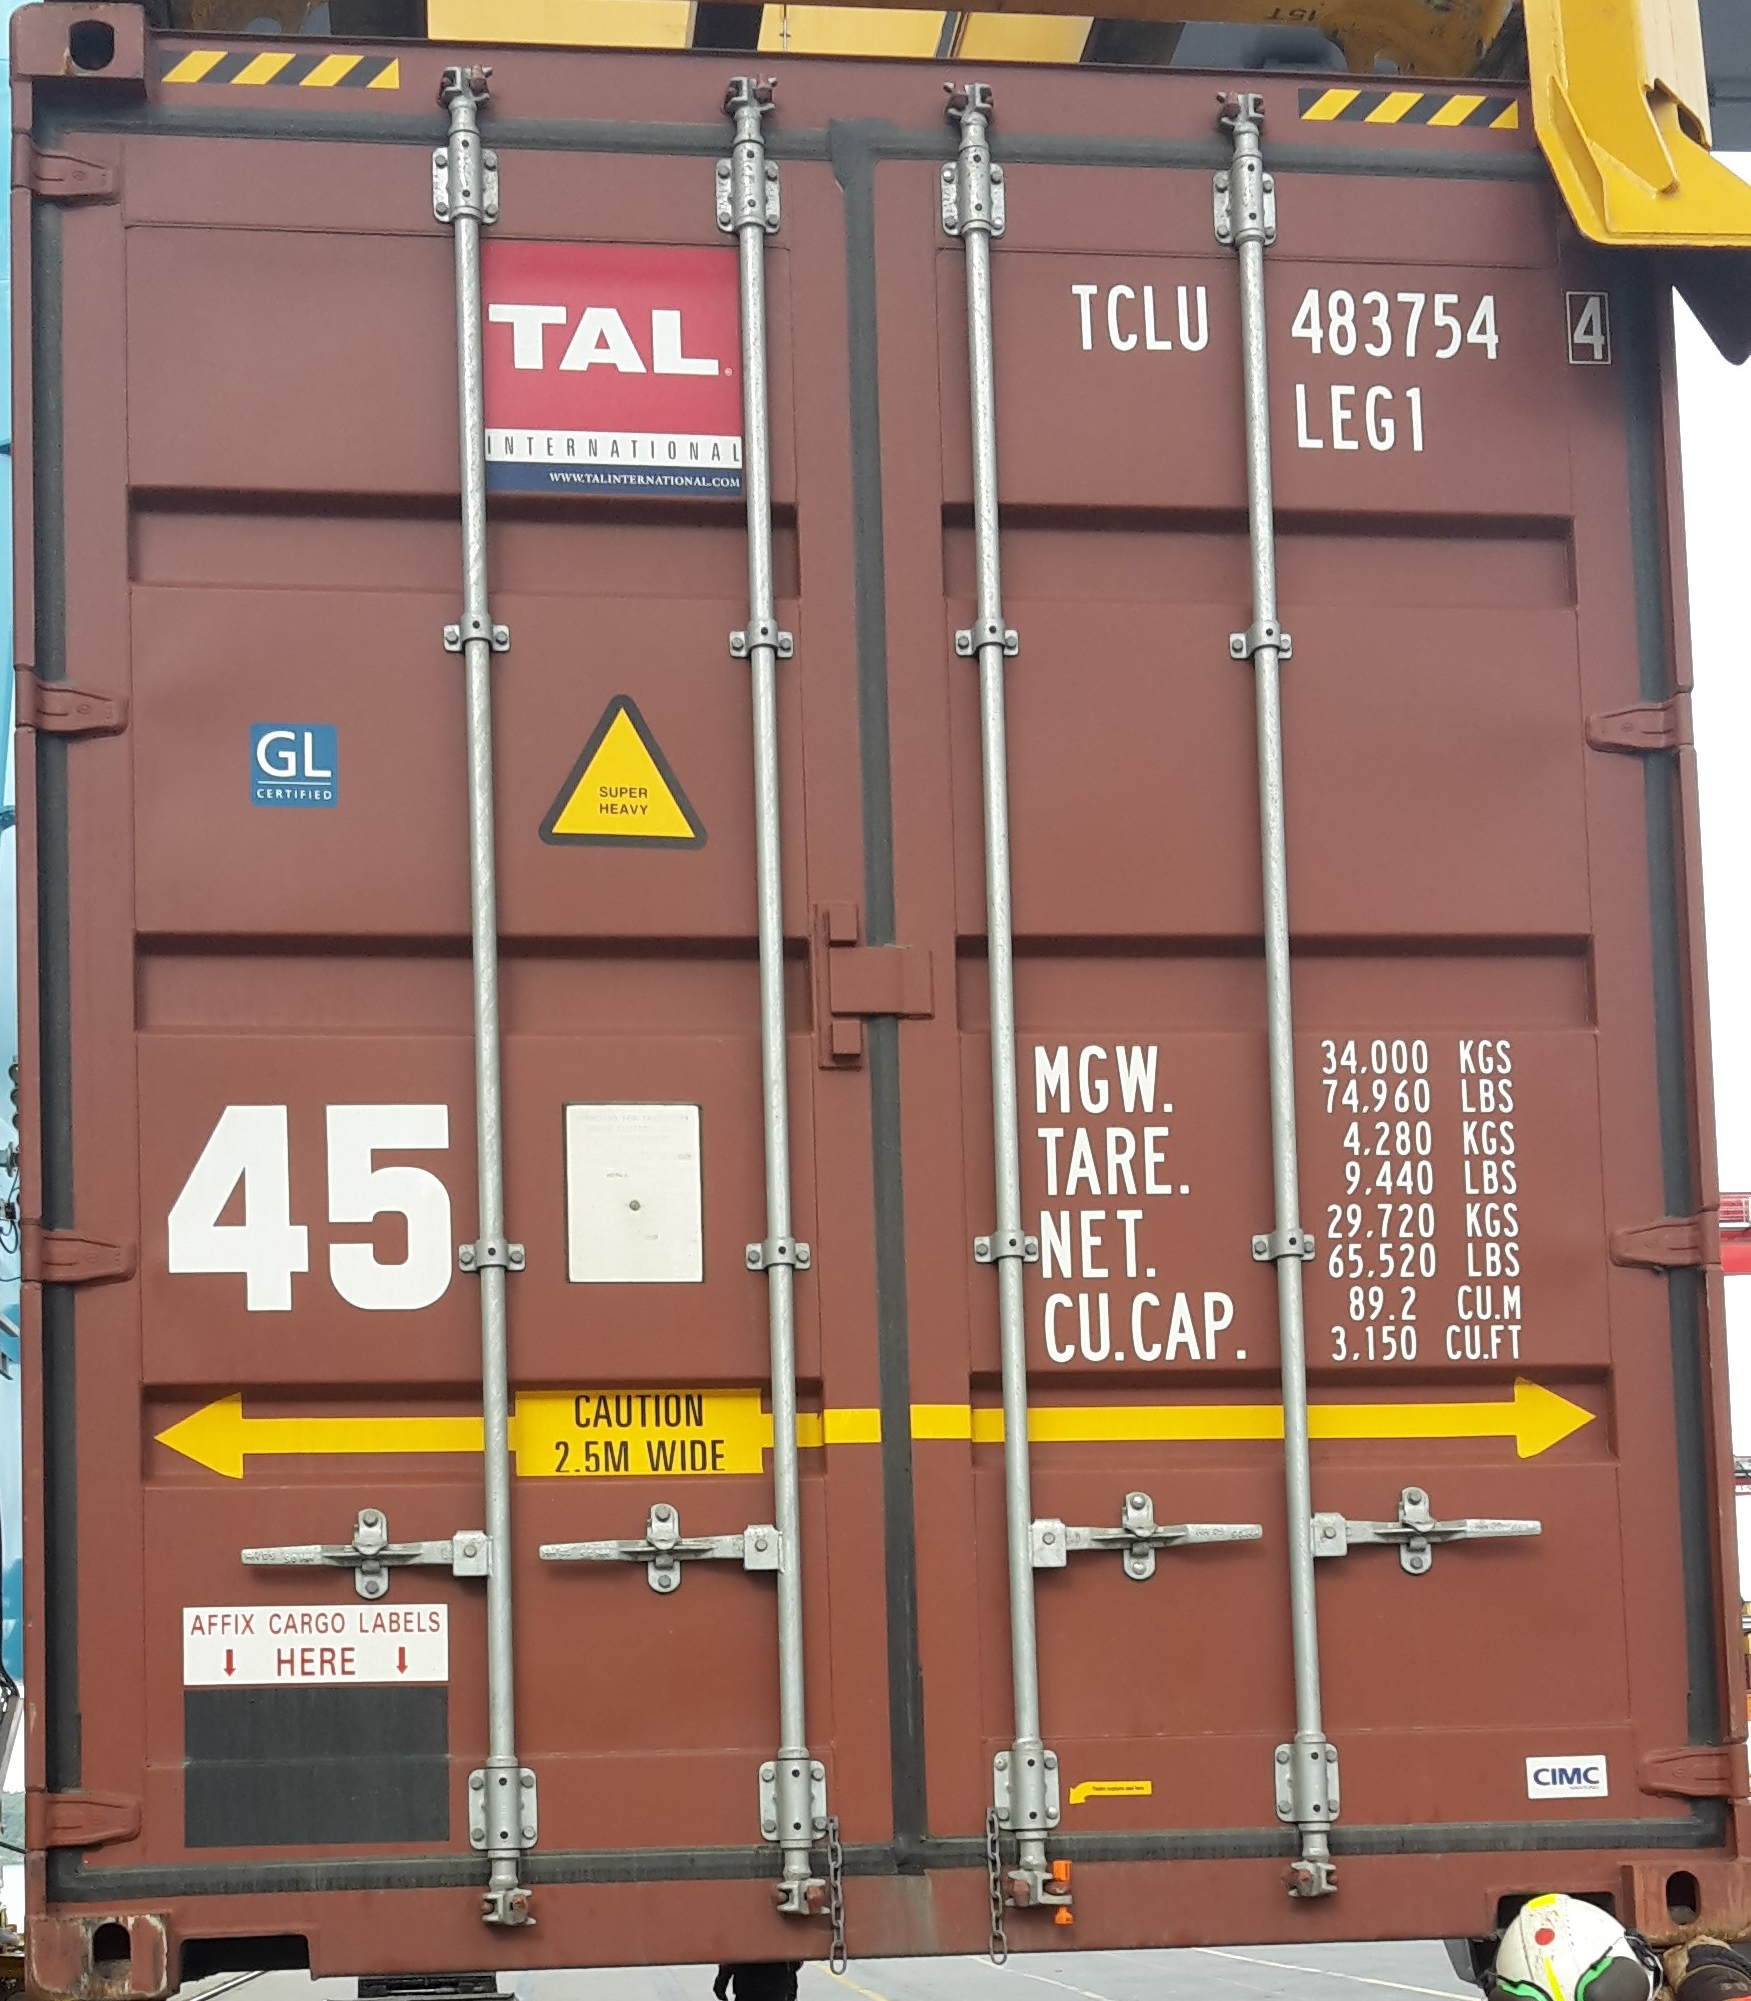container_door: (31, 2, 1742, 1992)
